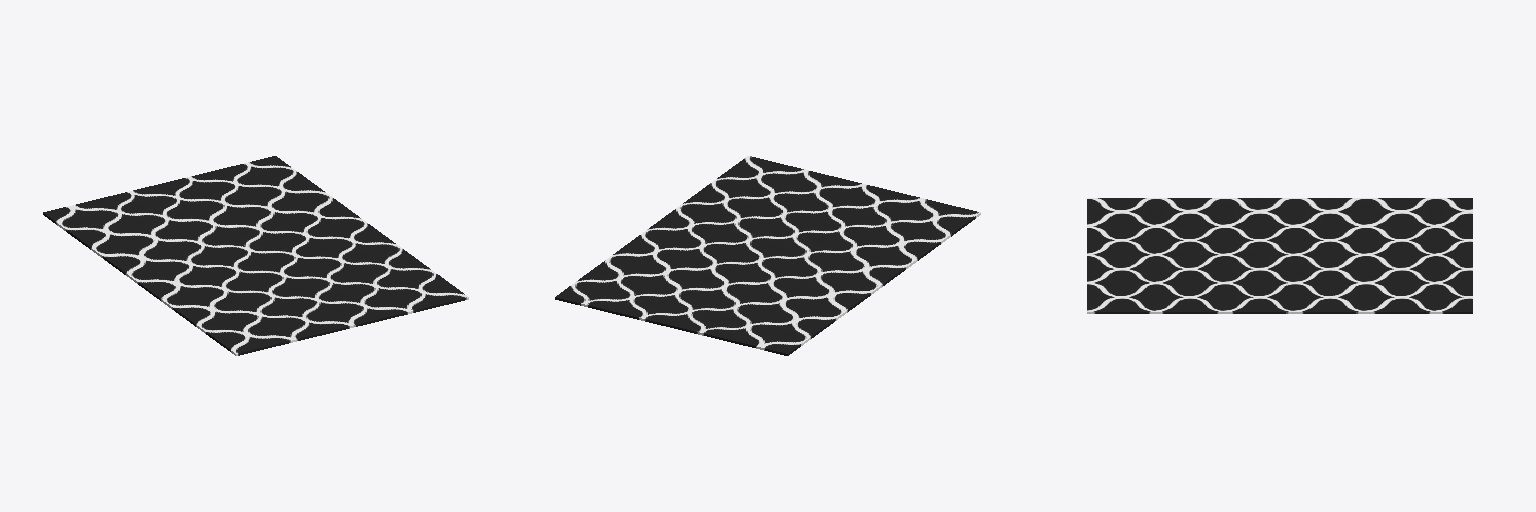
3 views of the same model, side by side, from view 1: azimuth 30°, elevation 25°; view 2: azimuth 150°, elevation 25°; view 3: azimuth 270°, elevation 25° (orthographic).
Visible parts, largest first — view 1: pCube7; view 2: pCube7; view 3: pCube7.
Boxes of the visible parts, x1=… form: pCube7: x1=43, y1=156, x2=468, y2=355; pCube7: x1=555, y1=156, x2=980, y2=355; pCube7: x1=1087, y1=198, x2=1472, y2=313.
Bounding box in the file's own units: 16 × 0.15 × 23.
Materials: 1 (1 with a texture image).